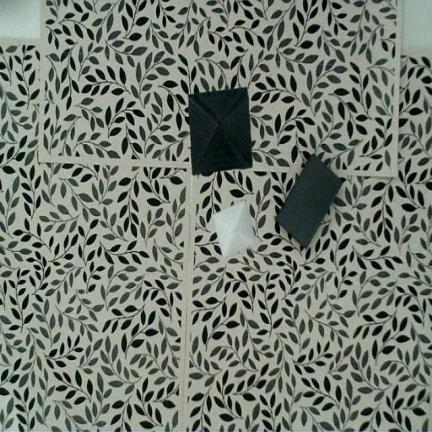Paralelepipedo: (276, 155, 343, 247)
Piramide: (189, 87, 252, 175), (212, 201, 256, 259)
